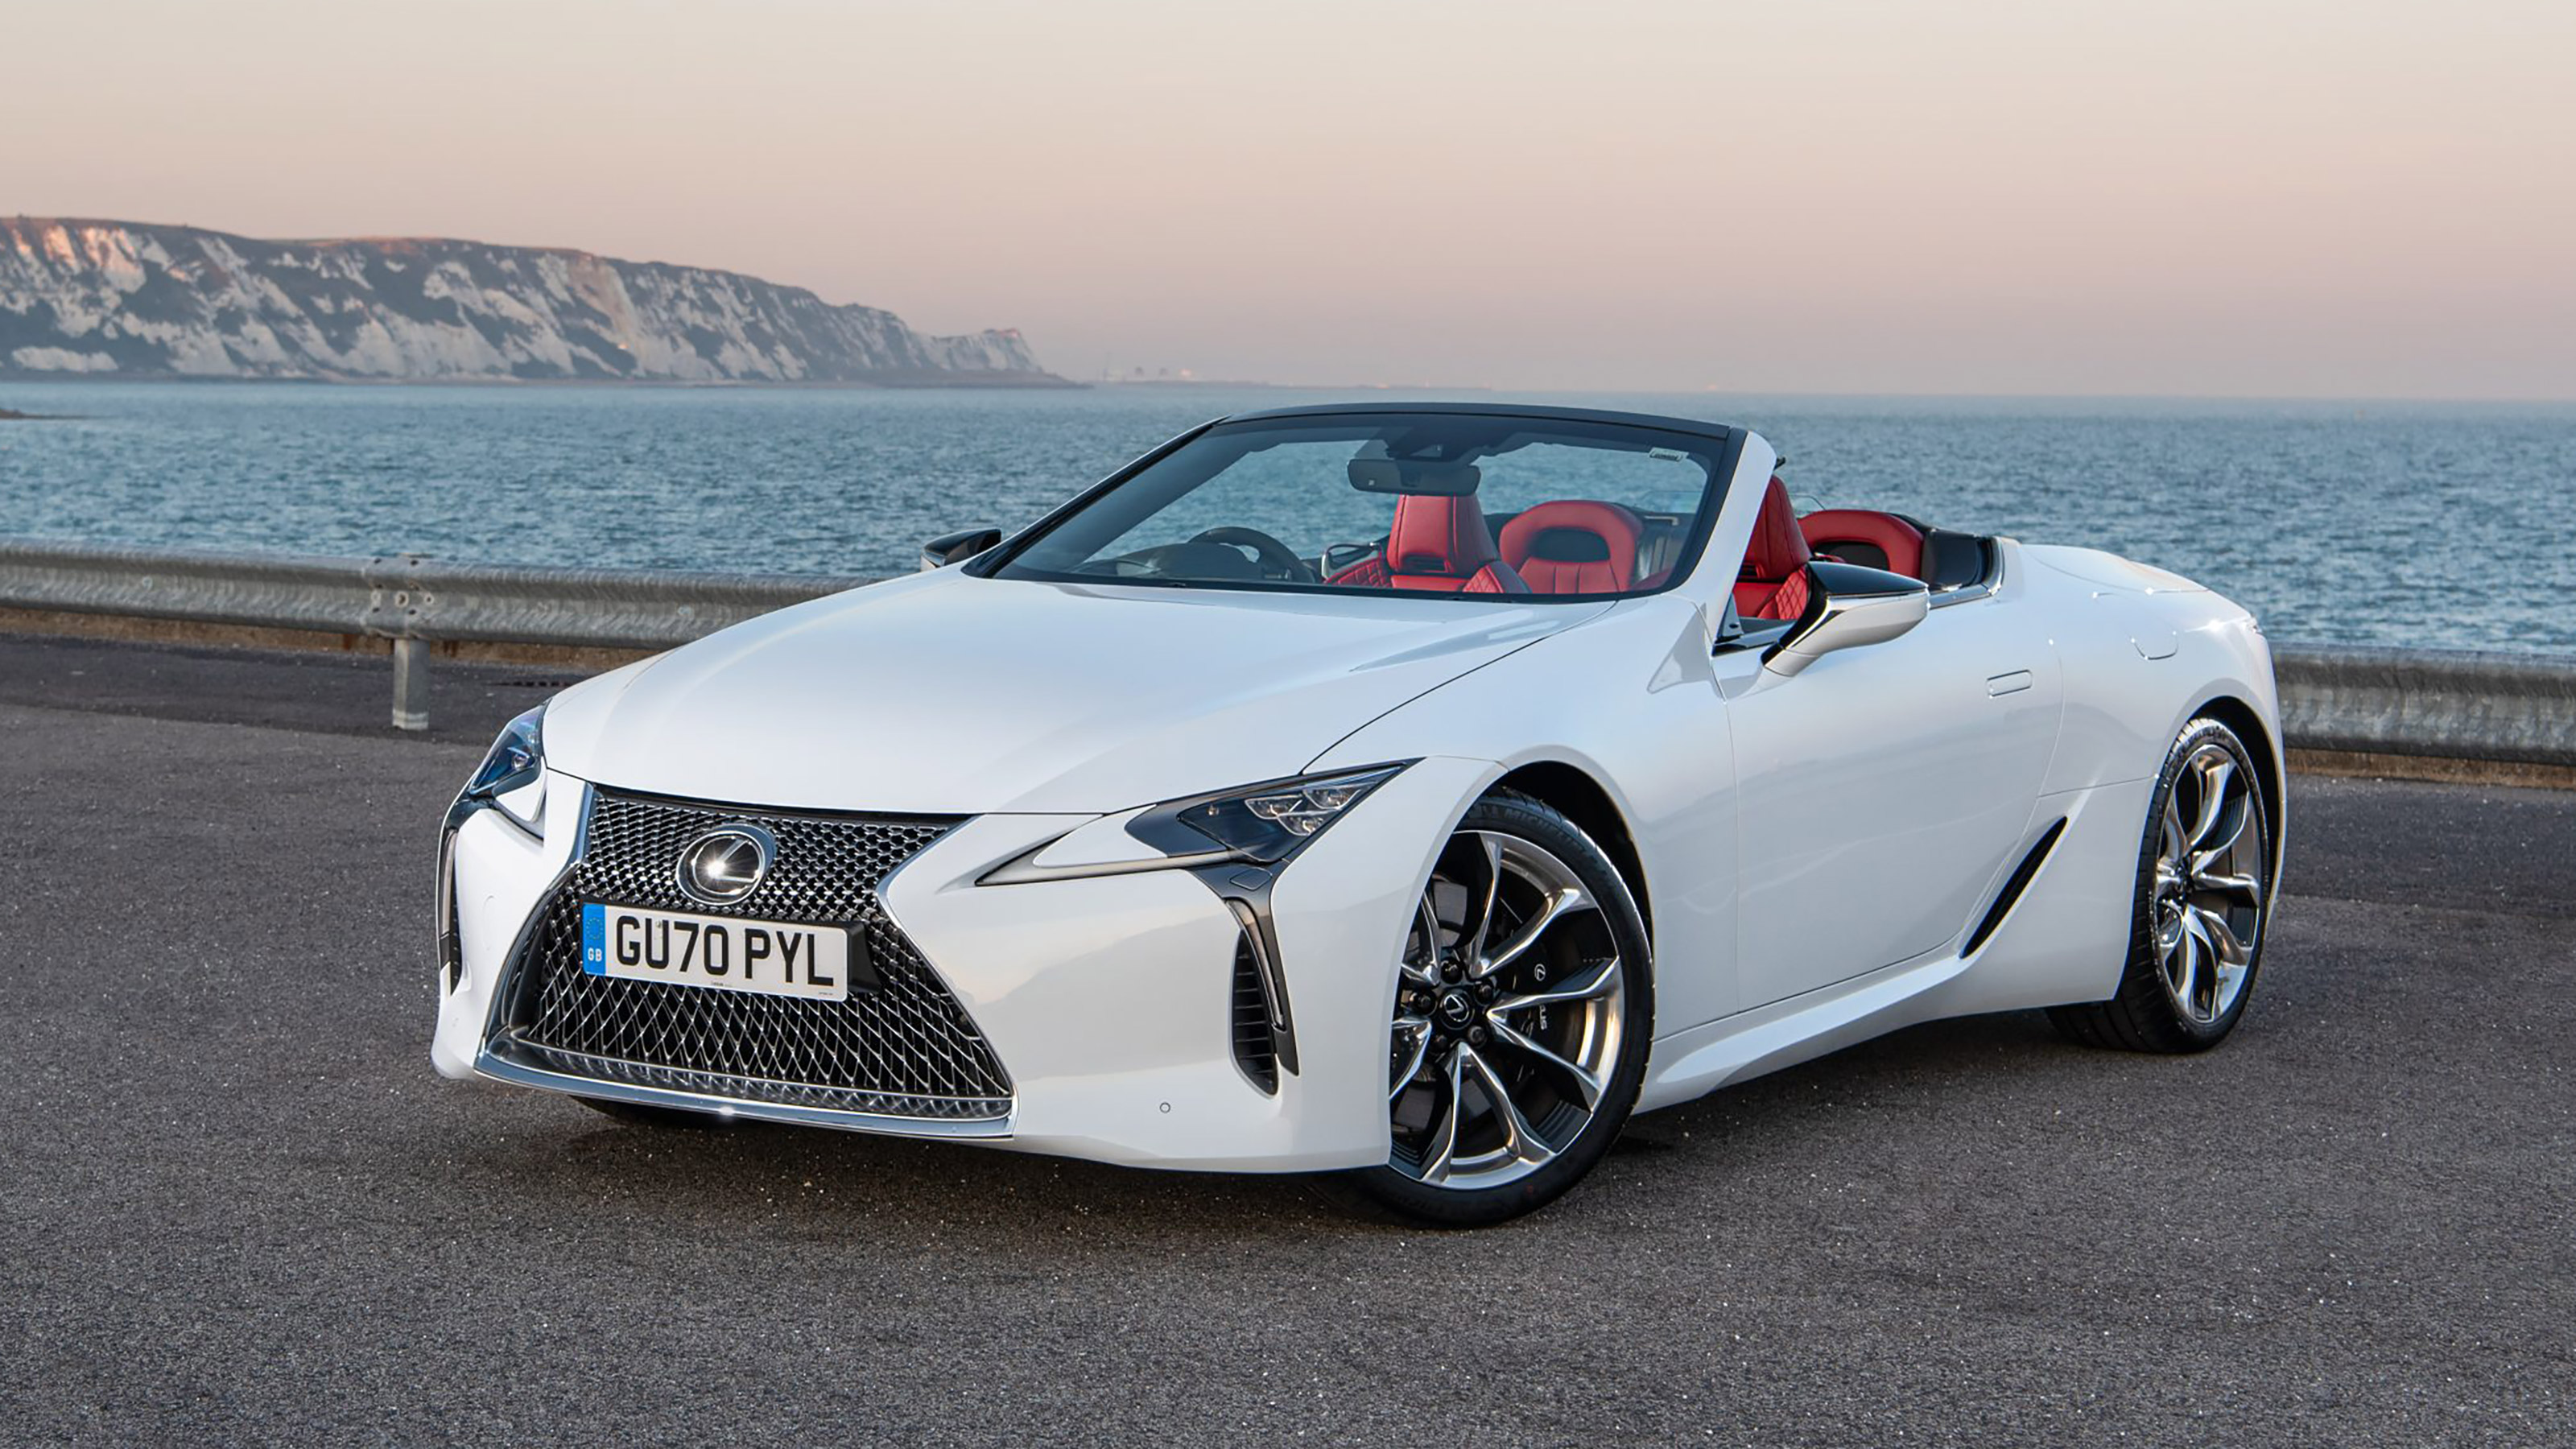car: (423, 400, 2288, 1235)
